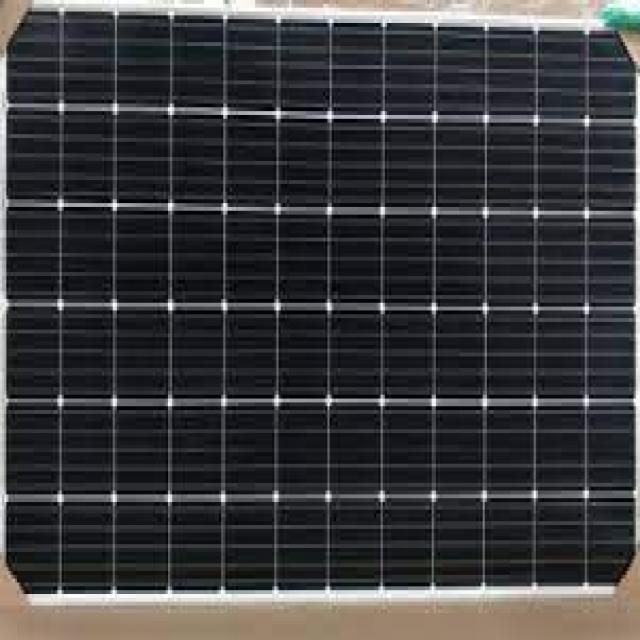faulty: (1, 11, 636, 588)
